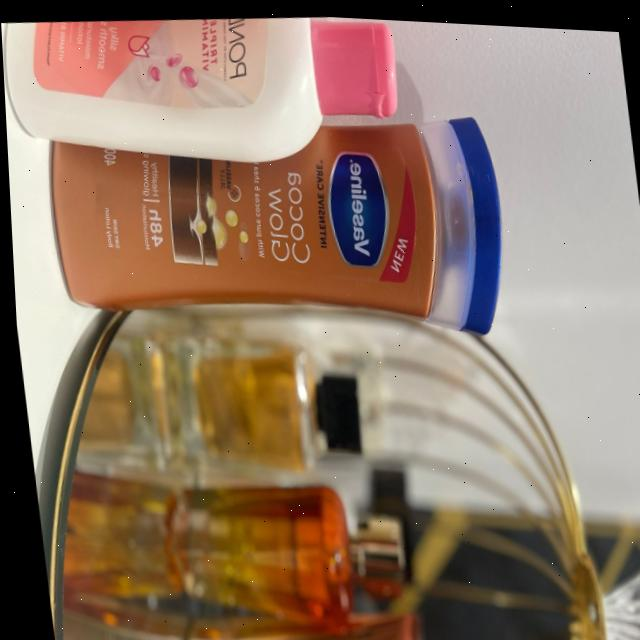lotion: (0, 0, 512, 362)
